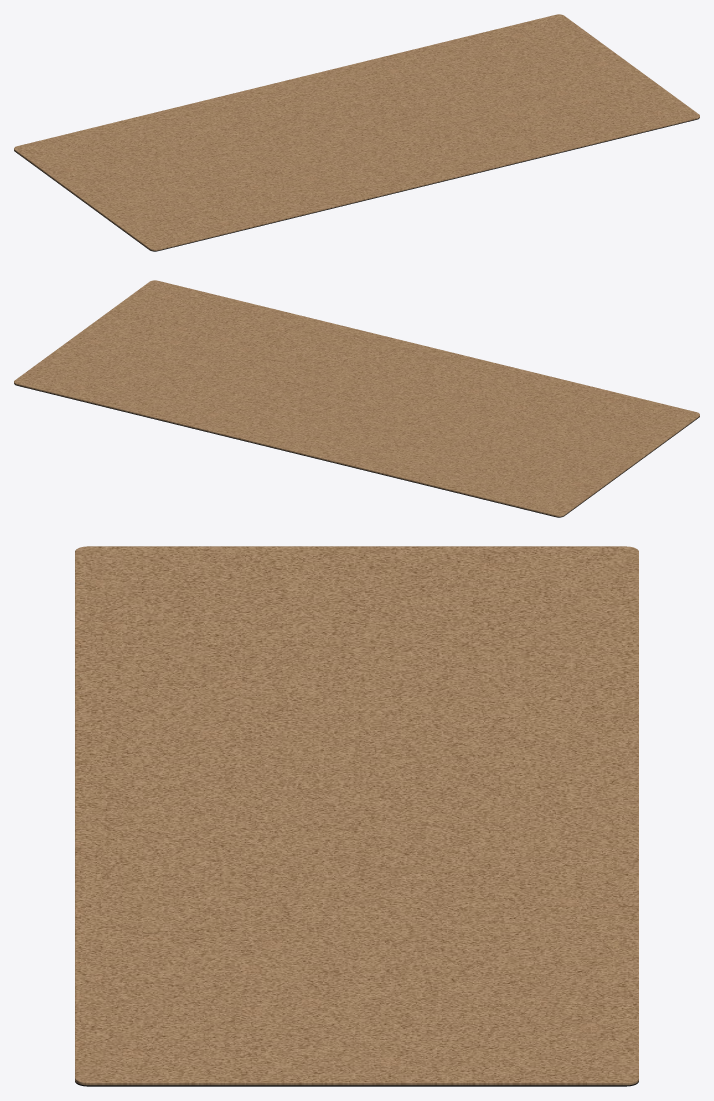
The model's file is p-korek_xl.glb.
3 views of the same model, one above another, from view 1: azimuth 30°, elevation 25°; view 2: azimuth 150°, elevation 25°; view 3: azimuth 270°, elevation 25° (orthographic). The views are drawn at different scales.
Visible parts, largest first — view 1: wierzch, spod; view 2: wierzch, spod; view 3: wierzch, spod.
Boxes of the visible parts, x1,y1,x2,y2 form: wierzch: (14, 14, 699, 250); spod: (14, 118, 699, 251); wierzch: (14, 280, 699, 516); spod: (14, 384, 699, 517); wierzch: (75, 546, 638, 1085); spod: (75, 1081, 638, 1086).
Bounding box in the file's own units: 0.9 × 0.00299 × 0.4.
Materials: 2 (1 with a texture image).
